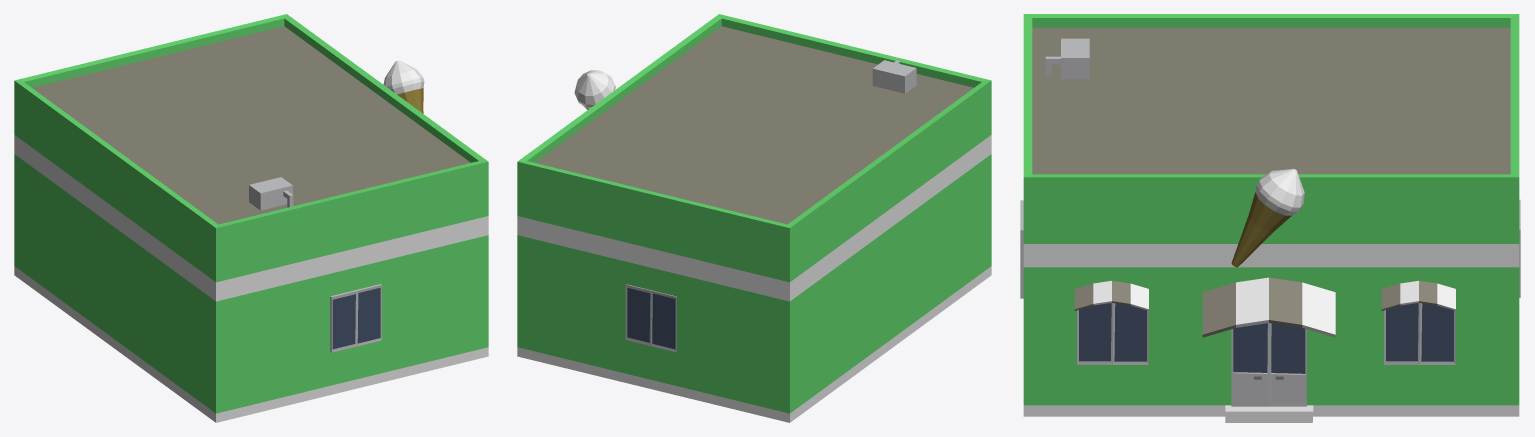
The model's file is ice.gltf.
3 renders of one model, left to right at view 1: azimuth 30°, elevation 25°; view 2: azimuth 150°, elevation 25°; view 3: azimuth 270°, elevation 25°, orthographic. The views are drawn at different scales.
Parts seen in each view (by area): view 1: Cube.010; view 2: Cube.010; view 3: Cube.010.
Part boxes in pixels (left/top/right/bottom): Cube.010: left=14, top=14, right=488, bottom=422; Cube.010: left=517, top=14, right=991, bottom=422; Cube.010: left=1020, top=14, right=1520, bottom=422.
Size of the model in its own units: 1.59 by 1.03 by 1.8.
